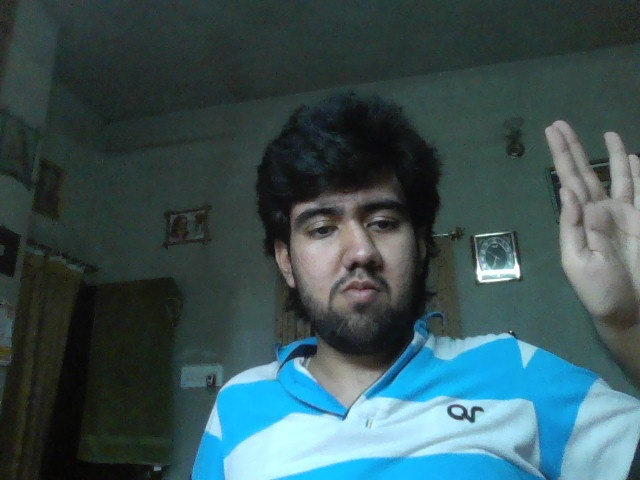LiveLong: (544, 120, 640, 326)
